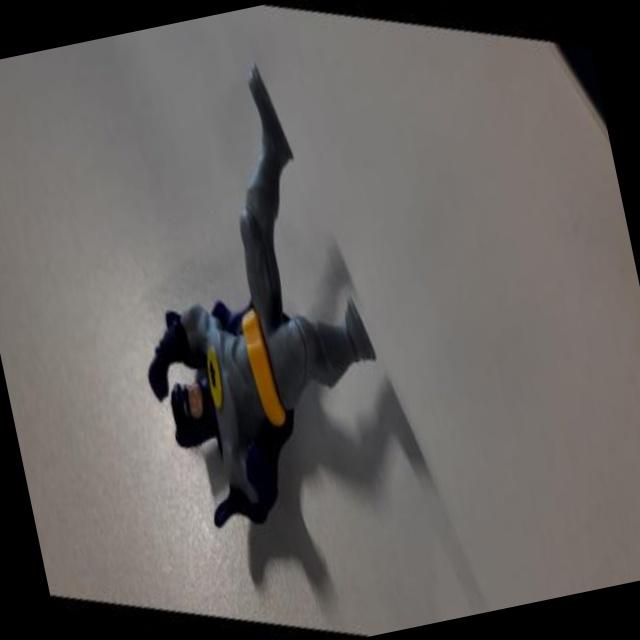Batman: (68, 0, 439, 600)
